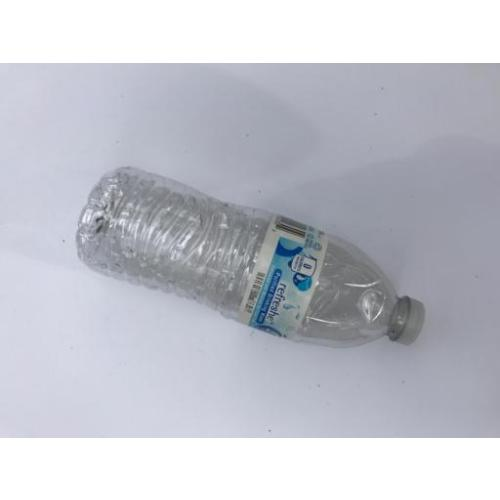plastic: (78, 166, 426, 347)
